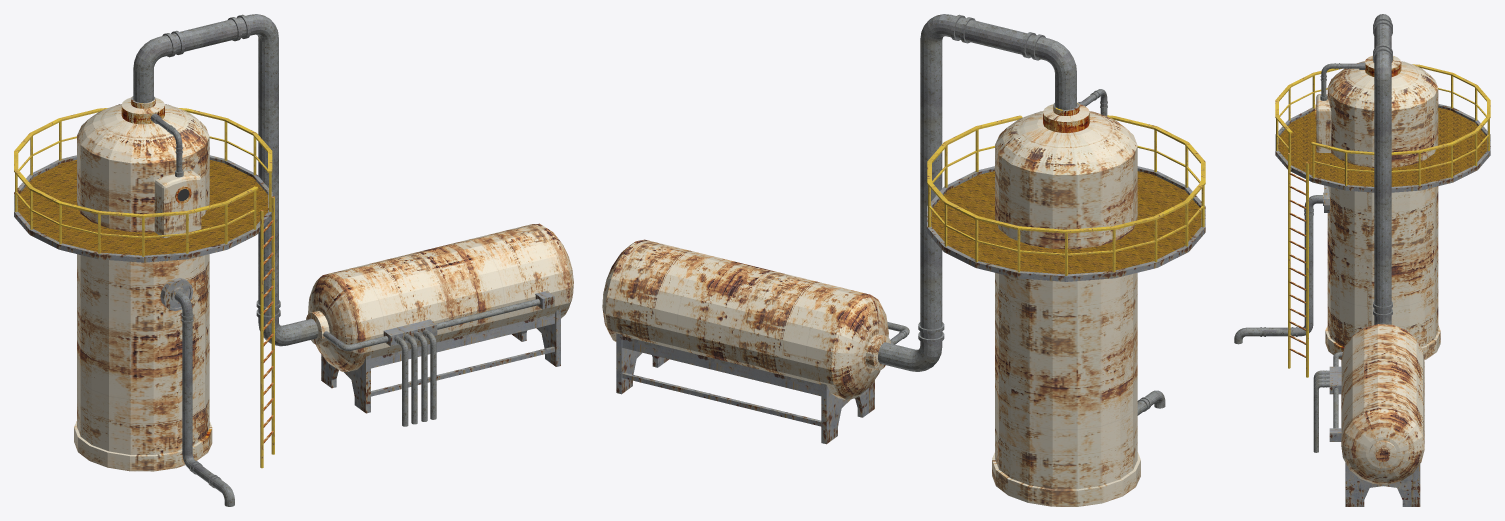
File: tank_2.DAE
3 views of the same model, side by side, from view 1: azimuth 30°, elevation 25°; view 2: azimuth 150°, elevation 25°; view 3: azimuth 270°, elevation 25° (orthographic). The views are drawn at different scales.
Parts seen in each view (by area): view 1: Mesh_Object; view 2: Mesh_Object; view 3: Mesh_Object.
Part boxes in pixels (x1,y1,x2,y2): Mesh_Object: (14, 14, 573, 506); Mesh_Object: (602, 14, 1205, 506); Mesh_Object: (1234, 14, 1490, 506).
Size of the model in its own units: 22.9 by 16.72 by 11.37.
